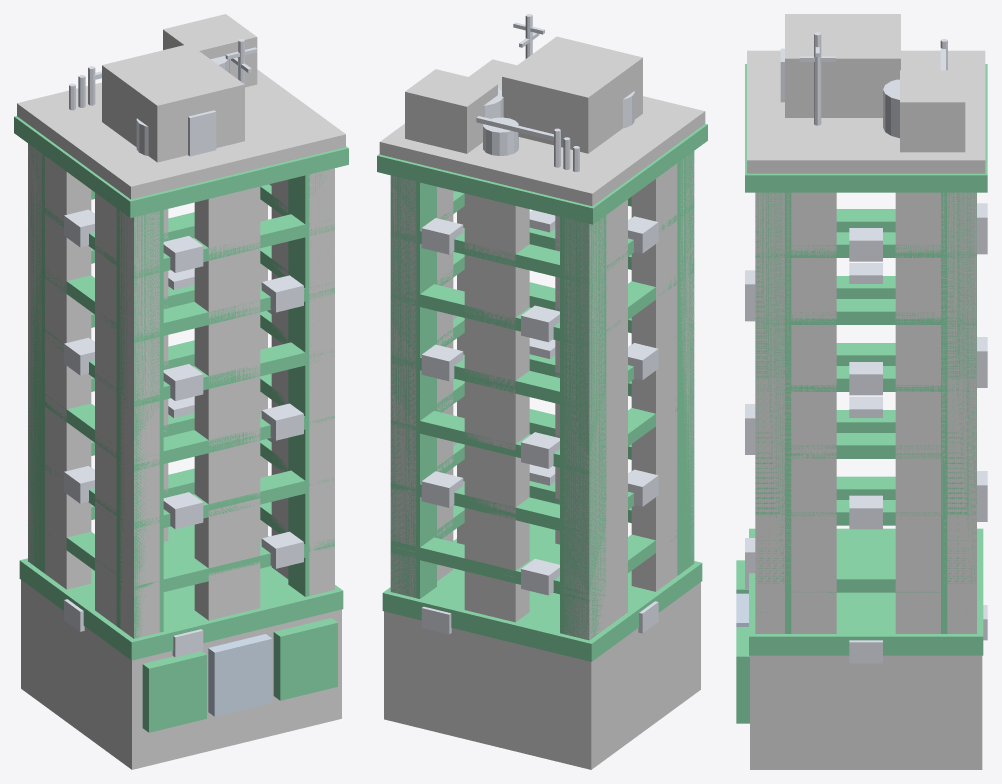
The model's file is office-slab.glb.
3 renders of one model, left to right at view 1: azimuth 30°, elevation 25°; view 2: azimuth 150°, elevation 25°; view 3: azimuth 270°, elevation 25°, orthographic. The views are drawn at different scales.
Parts seen in each view (by area): view 1: office slab pier.001, office slab podium, office slab parapet, office slab pier, office slab pier.009, office slab lift overrun, office slab corner.001, office slab pier.008, office slab pier.002, office slab plinth, office slab corner.003, office slab cornice (+38 smaller); view 2: office slab podium, office slab pier.004, office slab corner, office slab corner.002, office slab pier.008, office slab pier.009, office slab parapet, office slab lift overrun, office slab plinth, office slab pier.003, office slab pier.005, office slab corner.001 (+35 smaller); view 3: office slab podium, office slab pier.007, office slab pier.006, office slab parapet, office slab pier.003, office slab pier.002, office slab plinth, office slab lift overrun, office slab corner.002, office slab corner.003, office slab stair bulkhead, office slab cornice (+26 smaller).
Part boxes in pixels (<box>): office slab pier.001: <box>194,186,260,620</box>; office slab podium: <box>21,580,341,769</box>; office slab parapet: <box>17,69,345,199</box>; office slab pier: <box>119,211,159,638</box>; office slab pier.009: <box>42,154,91,589</box>; office slab lift overrun: <box>102,44,244,162</box>; office slab corner.001: <box>116,208,163,638</box>; office slab pier.008: <box>95,192,158,638</box>; office slab pier.002: <box>309,168,334,595</box>; office slab plinth: <box>19,524,343,660</box>; office slab corner.003: <box>288,171,328,596</box>; office slab cornice: <box>14,116,348,217</box>; office slab podium: <box>384,582,700,769</box>; office slab pier.004: <box>464,193,529,622</box>; office slab corner: <box>560,215,606,640</box>; office slab corner.002: <box>390,176,436,598</box>; office slab pier.008: <box>631,163,694,591</box>; office slab pier.009: <box>565,199,627,635</box>; office slab parapet: <box>379,59,705,206</box>; office slab lift overrun: <box>502,36,642,153</box>; office slab plinth: <box>382,524,702,661</box>; office slab pier.003: <box>390,175,416,597</box>; office slab pier.005: <box>564,218,603,640</box>; office slab corner.001: <box>677,151,694,575</box>; office slab podium: <box>750,655,982,769</box>; office slab pier.007: <box>755,192,836,633</box>; office slab pier.006: <box>895,192,974,633</box>; office slab parapet: <box>747,50,985,173</box>; office slab pier.003: <box>947,192,976,633</box>; office slab pier.002: <box>755,192,784,633</box>; office slab plinth: <box>749,528,983,655</box>; office slab lift overrun: <box>785,14,900,117</box>; office slab corner.002: <box>941,192,976,633</box>; office slab corner.003: <box>755,192,791,633</box>; office slab stair bulkhead: <box>900,70,965,152</box>; office slab cornice: <box>745,64,987,192</box>.
Bounding box in the file's own units: 2.5 × 7.34 × 2.38.
